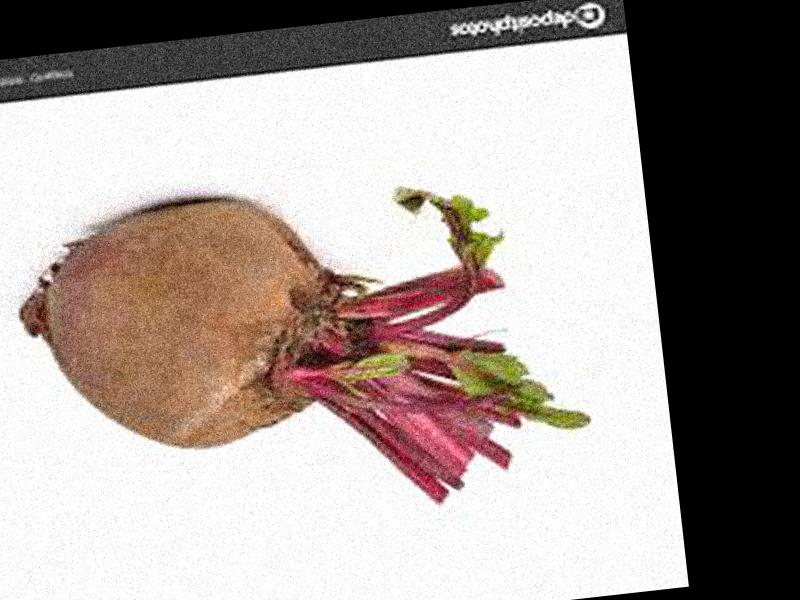Beet: (8, 156, 597, 547)
